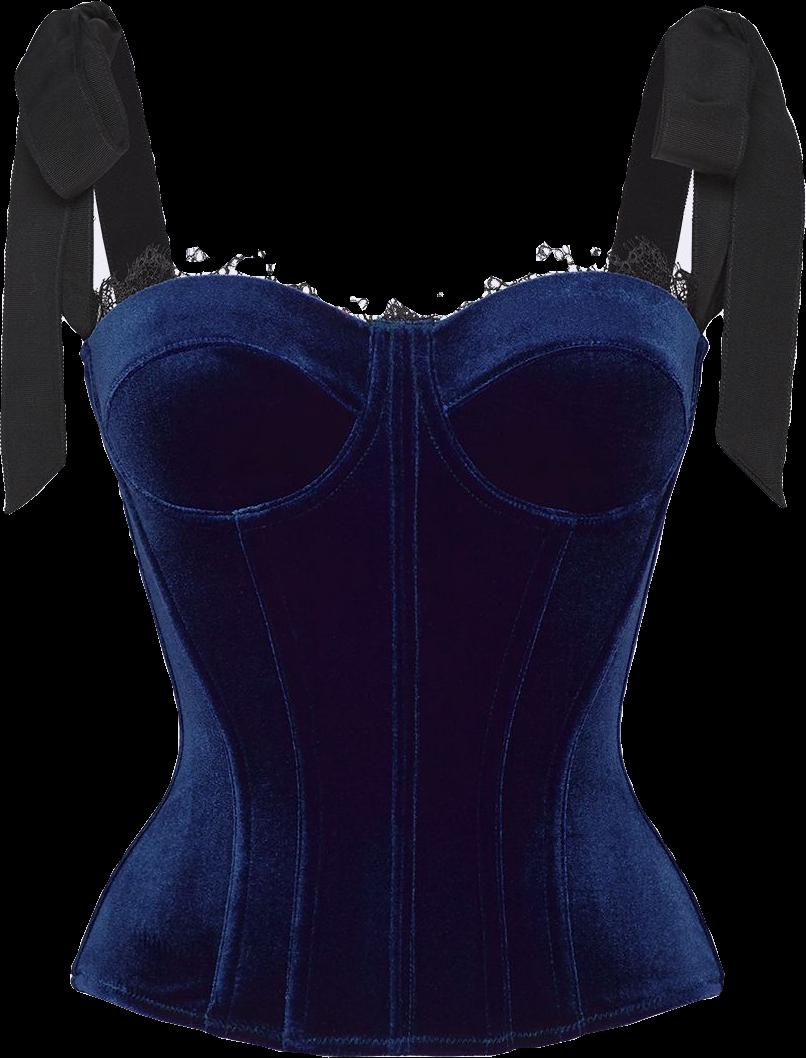Bodice: (72, 272, 724, 1055)
Neckline: (74, 263, 715, 356)
Waistline: (67, 976, 729, 1057)
